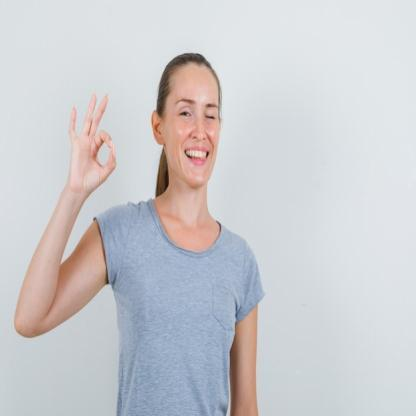ok: (66, 86, 118, 195)
